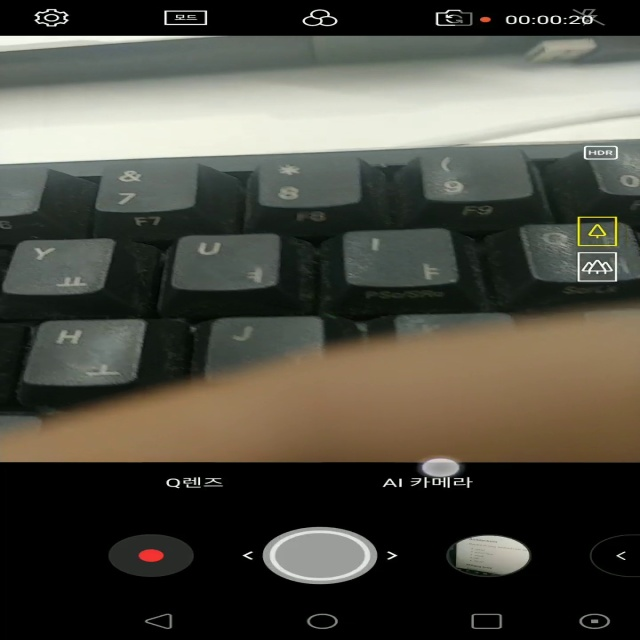Cursor: (419, 457, 464, 479)
